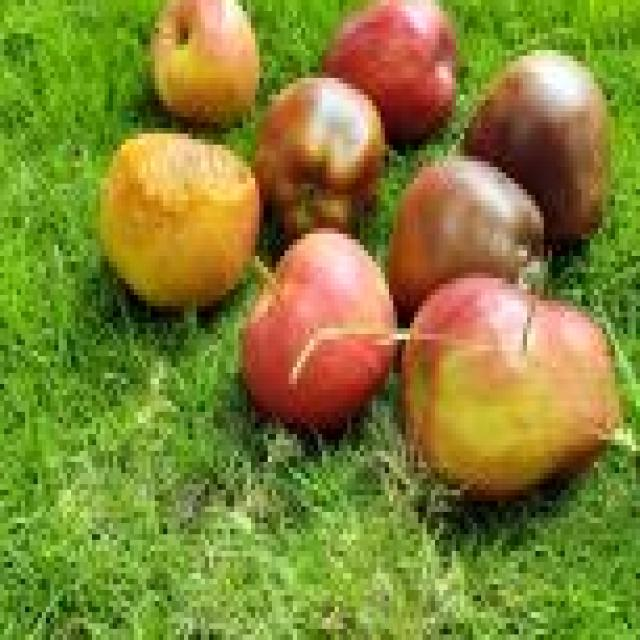Bad_Apple 0-1 day: (102, 78, 387, 310), (389, 61, 609, 316)
Good_Apple 10-21 days: (247, 231, 619, 499), (324, 0, 456, 141), (155, 0, 255, 121)
